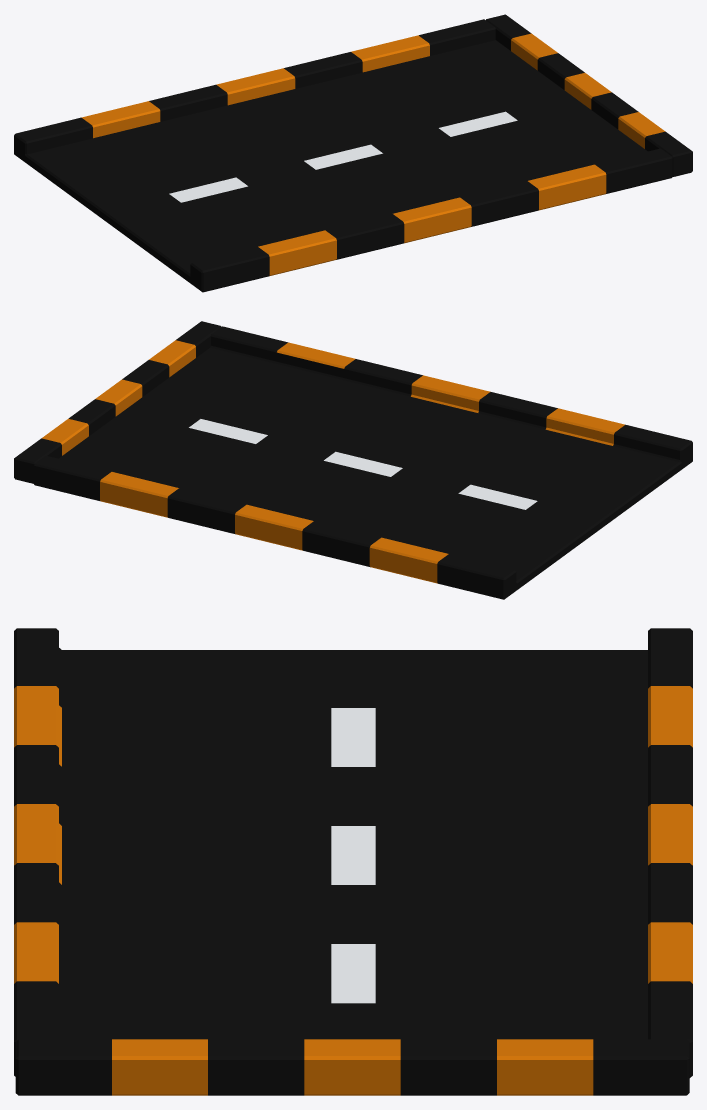
Rendered from Road_End_01.fbx.
3 renders of one model, top to bottom at view 1: azimuth 30°, elevation 25°; view 2: azimuth 150°, elevation 25°; view 3: azimuth 270°, elevation 25°, orthographic. The views are drawn at different scales.
Parts seen in each view (by area): view 1: Road_End_01; view 2: Road_End_01; view 3: Road_End_01.
Boxes of the visible parts, x1=… form: Road_End_01: x1=14, y1=14, x2=692, y2=292; Road_End_01: x1=14, y1=321, x2=692, y2=599; Road_End_01: x1=14, y1=628, x2=692, y2=1095.
Bounding box in the file's own units: 7.28 × 0.3155 × 4.85.
